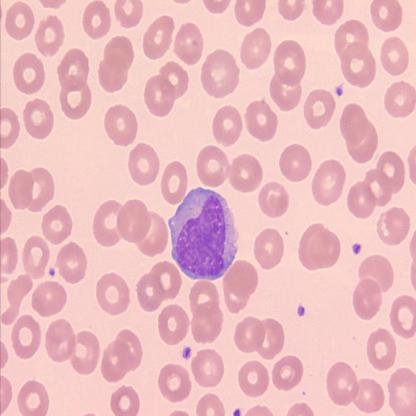Monocyte: (166, 185, 240, 282)
